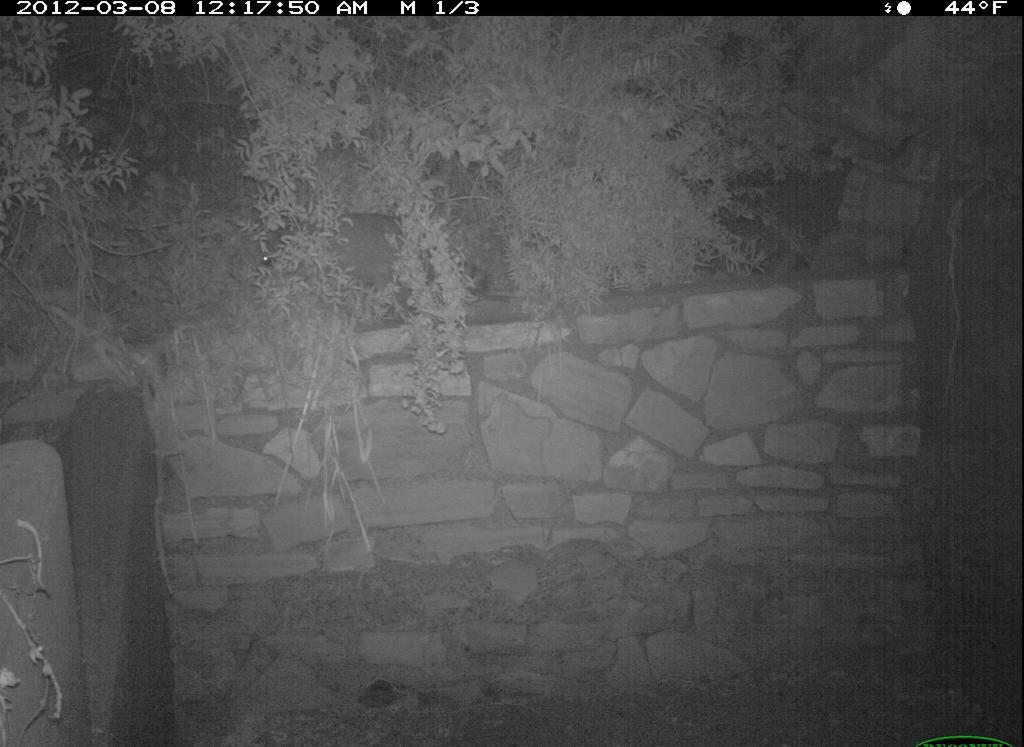raccoon: (219, 186, 454, 333)
